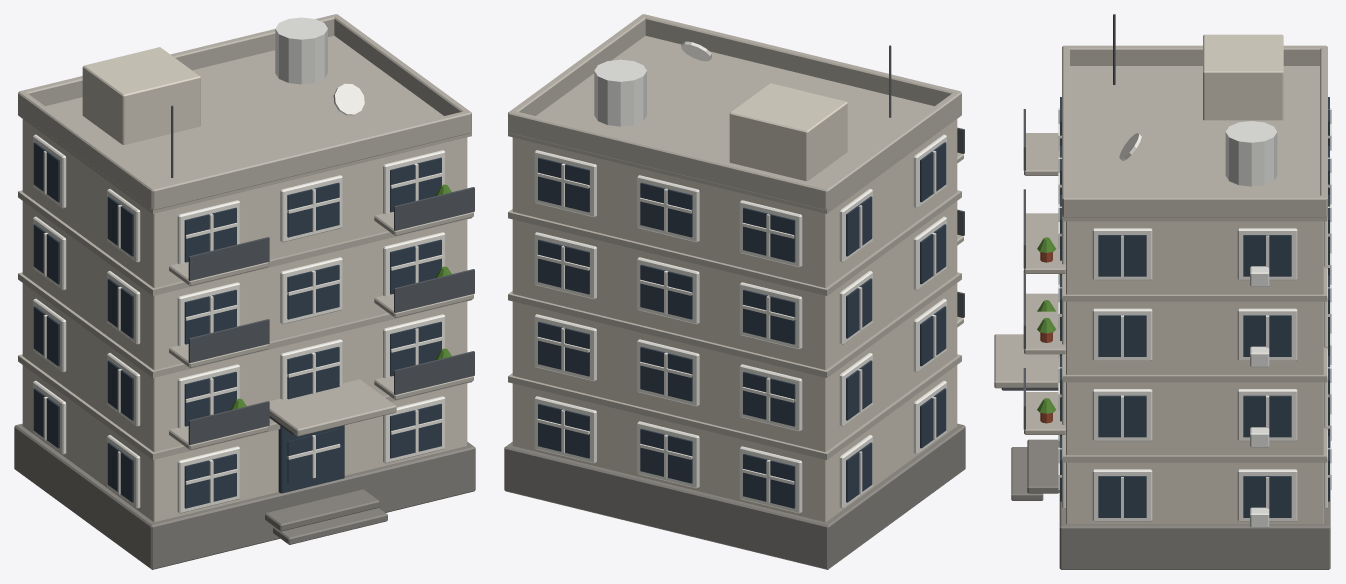
Rendered from apt_4.glb.
3 views of the same model, side by side, from view 1: azimuth 30°, elevation 25°; view 2: azimuth 150°, elevation 25°; view 3: azimuth 270°, elevation 25° (orthographic). The views are drawn at different scales.
Visible parts, largest first — view 1: apt_4; view 2: apt_4; view 3: apt_4.
Part boxes in pixels (bbox=[...]): apt_4: bbox=[14, 14, 475, 569]; apt_4: bbox=[504, 14, 965, 569]; apt_4: bbox=[994, 14, 1331, 569].
Size of the model in its own units: 2.38 by 2.9 by 2.09.
